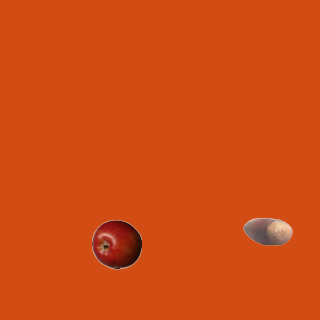Apple Braeburn: (91, 219, 141, 269)
Hazelnut: (242, 206, 292, 256)
